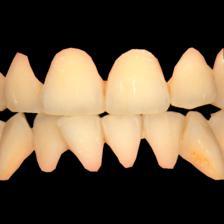cavity: (190, 142, 206, 164), (100, 78, 112, 102), (166, 80, 177, 98), (184, 116, 189, 131)
tooth: (106, 46, 172, 115), (47, 48, 106, 116), (168, 46, 213, 111), (183, 112, 224, 182), (59, 115, 104, 173), (4, 52, 44, 114), (103, 114, 147, 168), (142, 114, 181, 170), (32, 114, 68, 173), (4, 113, 30, 181)
